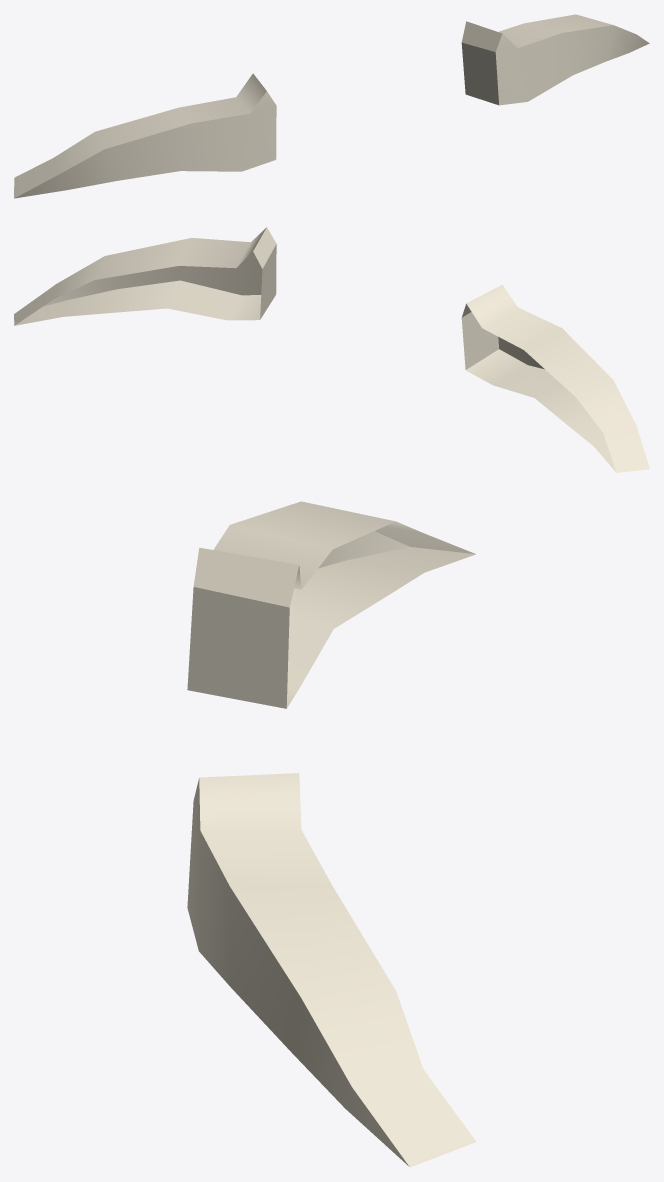
Rendered from Eyebrow_3.fbx.
3 renders of one model, top to bottom at view 1: azimuth 30°, elevation 25°; view 2: azimuth 150°, elevation 25°; view 3: azimuth 270°, elevation 25°, orthographic. The views are drawn at different scales.
Parts seen in each view (by area): view 1: Eyebrow_3; view 2: Eyebrow_3; view 3: Eyebrow_3.
Boxes of the visible parts, x1,y1,x2,y2 form: Eyebrow_3: (14,14,649,198); Eyebrow_3: (14,227,649,472); Eyebrow_3: (187,501,476,1167).
Bounding box in the file's own units: 32.72 × 4.78 × 6.44.
